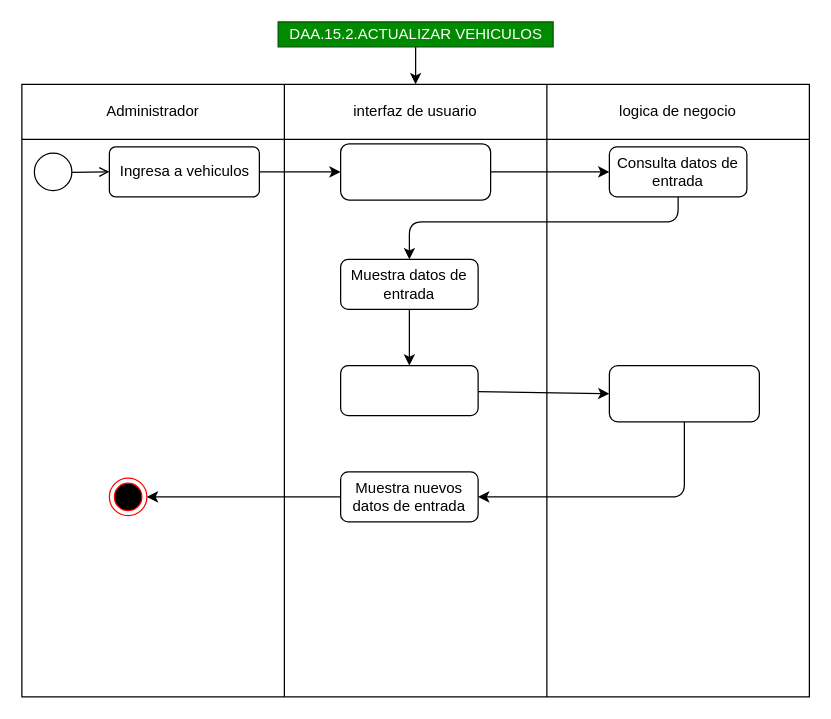
Image size: 831x719. Some labels were removed from this diagram. The shapes that lost their labels are listed below. From the top down, each one's centre as x and y in pixels, then its label:
At (x=415, y=171): "Ingresa datos de entrada".
At (x=408, y=390): "Edita datos de entrada".
At (x=683, y=393): "Almacena datos editados de entrada".
